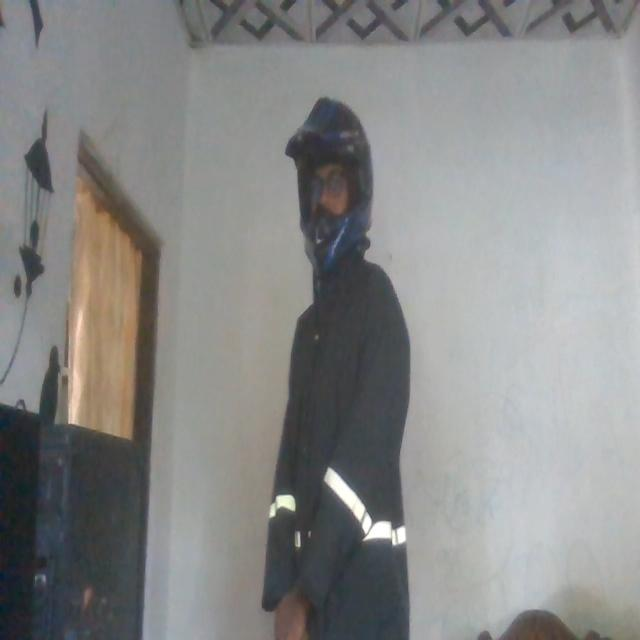Helmet_Wearer: (280, 96, 373, 267)
Jacket_Wearer: (265, 252, 408, 640)
Person: (259, 90, 424, 640)
